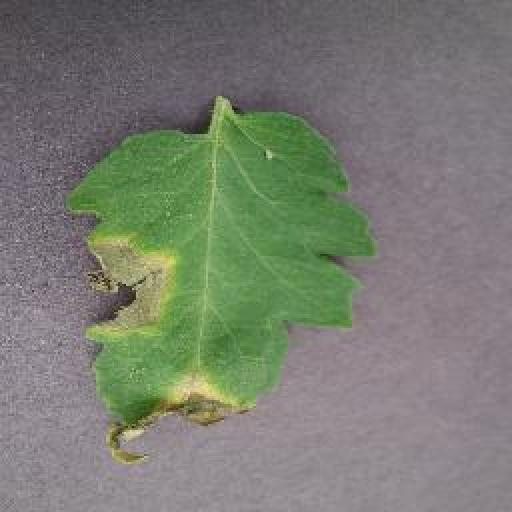Late Blight: (64, 109, 379, 463)
